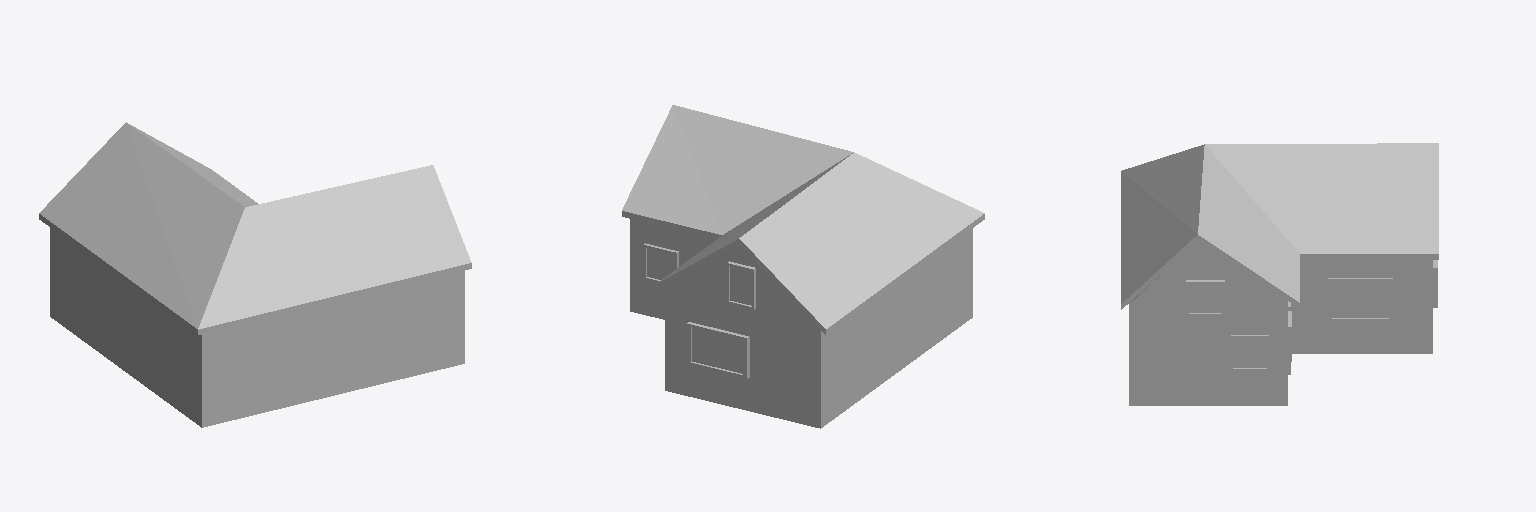
File: House.obj
3 views of the same model, side by side, from view 1: azimuth 30°, elevation 25°; view 2: azimuth 150°, elevation 25°; view 3: azimuth 270°, elevation 25° (orthographic).
Parts seen in each view (by area): view 1: House; view 2: House; view 3: House.
Boxes of the visible parts, <box> form: House: <box>39,122,471,427</box>; House: <box>622,105,984,428</box>; House: <box>1121,143,1438,405</box>.
Size of the model in its own units: 12.54 by 7.67 by 12.55.